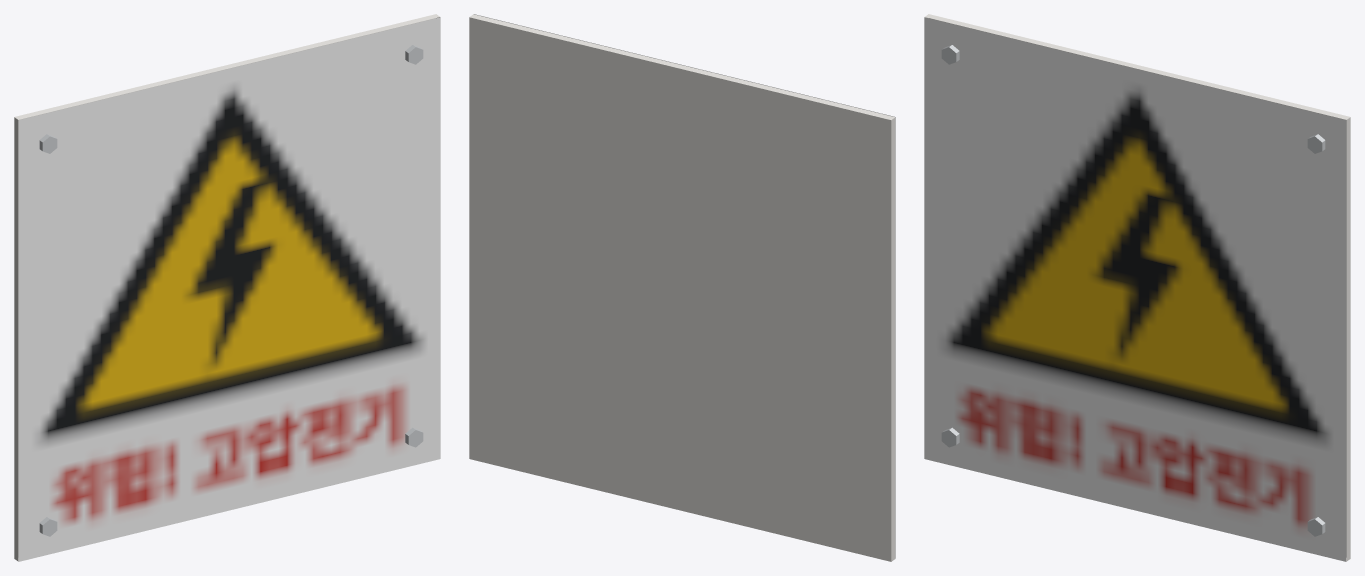
File: SC_Util_Sign_HighVoltage.gltf
The picture shows the model from 3 angles, left to right: view 1: azimuth 30°, elevation 25°; view 2: azimuth 150°, elevation 25°; view 3: azimuth 330°, elevation 25°; orthographic projection.
Visible parts, largest first — view 1: SC_Util_Sign_HighVoltage; view 2: SC_Util_Sign_HighVoltage; view 3: SC_Util_Sign_HighVoltage.
Boxes of the visible parts, x1=… form: SC_Util_Sign_HighVoltage: x1=14, y1=14, x2=440, y2=561; SC_Util_Sign_HighVoltage: x1=469, y1=14, x2=895, y2=561; SC_Util_Sign_HighVoltage: x1=924, y1=14, x2=1350, y2=561.
Bounding box in the file's own units: 0.3 × 0.3 × 0.0095.
Materials: 2 (2 with a texture image).
